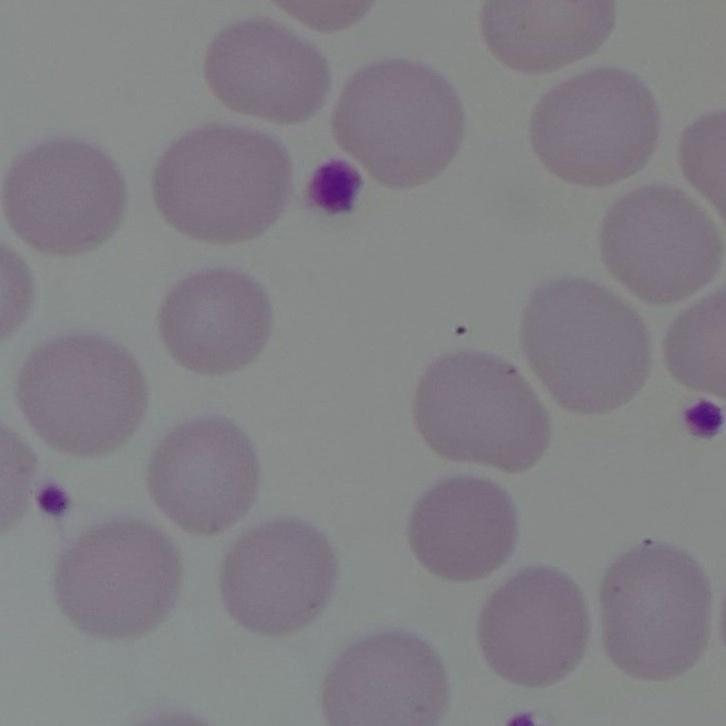Uninfected: (523, 273, 650, 417), (331, 60, 460, 190), (416, 350, 553, 471), (19, 333, 149, 458), (597, 542, 710, 681), (156, 125, 291, 241), (50, 522, 185, 635), (597, 186, 726, 303), (530, 69, 657, 186), (146, 415, 262, 536), (477, 565, 588, 689), (6, 139, 124, 254), (203, 16, 325, 127), (219, 516, 333, 633), (153, 269, 276, 375), (323, 630, 447, 726), (409, 477, 518, 579)
